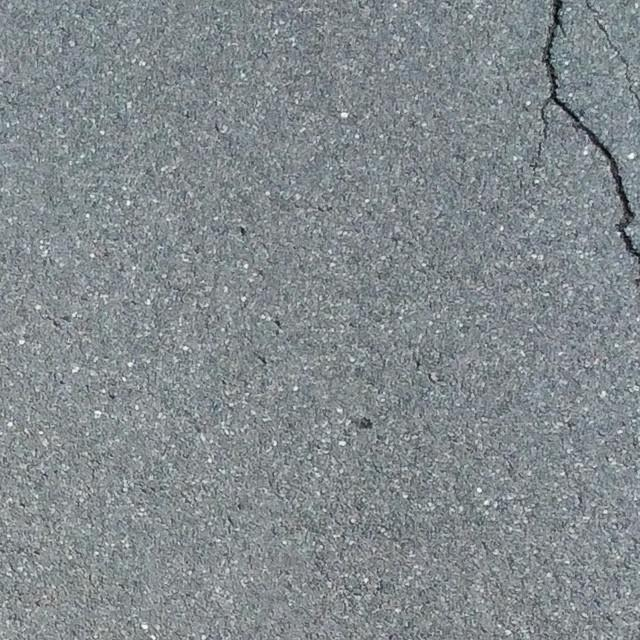LongitudinalCrack: (535, 1, 640, 259)
